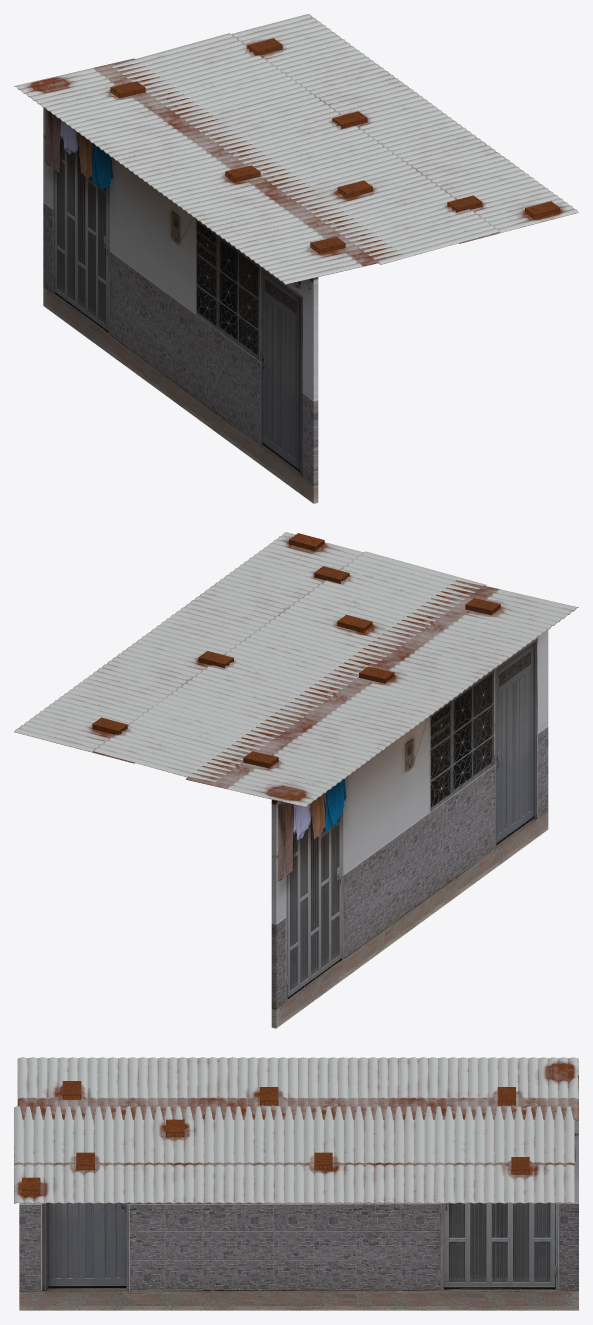
The model's file is casaA_derecha_06.fbx.
3 renders of one model, top to bottom at view 1: azimuth 30°, elevation 25°; view 2: azimuth 150°, elevation 25°; view 3: azimuth 270°, elevation 25°, orthographic. The views are drawn at different scales.
Parts seen in each view (by area): view 1: Techo_1.012, casaA_derecha_06.001; view 2: Techo_1.012, casaA_derecha_06.001; view 3: Techo_1.012, casaA_derecha_06.001.
Boxes of the visible parts, bbox=[...] form: Techo_1.012: bbox=[14, 14, 578, 284]; casaA_derecha_06.001: bbox=[43, 107, 318, 503]; Techo_1.012: bbox=[14, 532, 578, 807]; casaA_derecha_06.001: bbox=[271, 629, 548, 1028]; Techo_1.012: bbox=[14, 1057, 578, 1203]; casaA_derecha_06.001: bbox=[19, 1075, 578, 1310].
Size of the model in its own units: 391 by 300 by 632.
